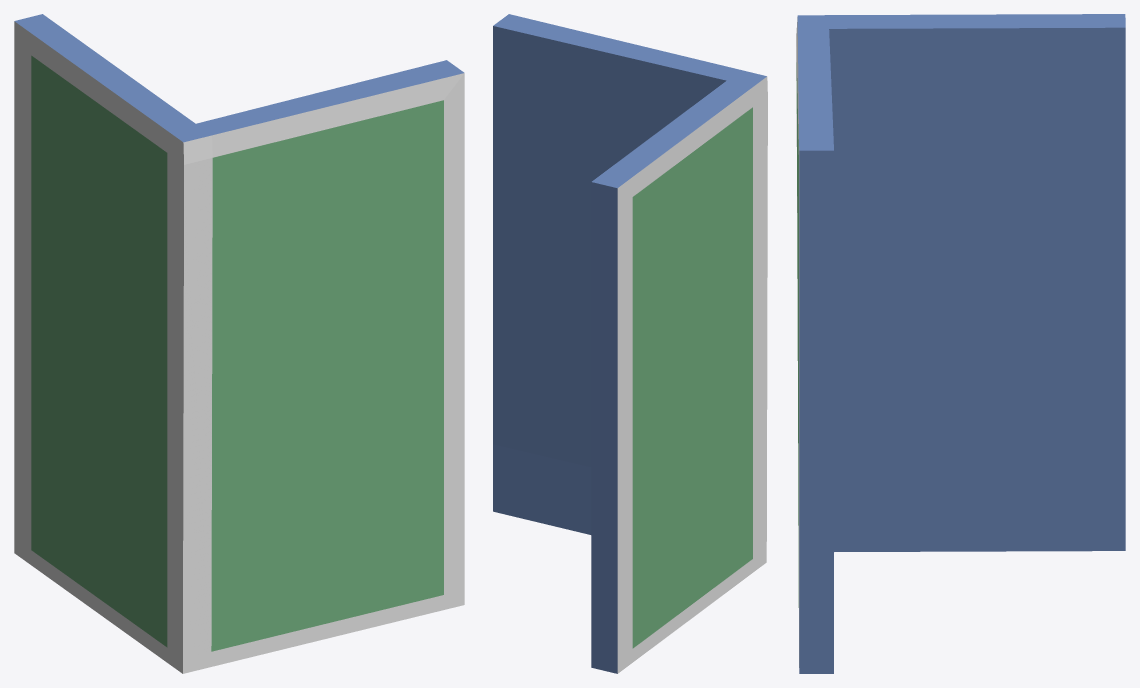
File: Corner Inside.fbx
3 views of the same model, side by side, from view 1: azimuth 30°, elevation 25°; view 2: azimuth 150°, elevation 25°; view 3: azimuth 270°, elevation 25° (orthographic). The views are drawn at different scales.
Parts seen in each view (by area): view 1: Corner-Inside; view 2: Corner-Inside; view 3: Corner-Inside.
Part boxes in pixels (bbox=[...]): Corner-Inside: bbox=[14, 14, 464, 673]; Corner-Inside: bbox=[493, 14, 767, 673]; Corner-Inside: bbox=[796, 14, 1125, 673].
Size of the model in its own units: 404 by 721 by 411.
